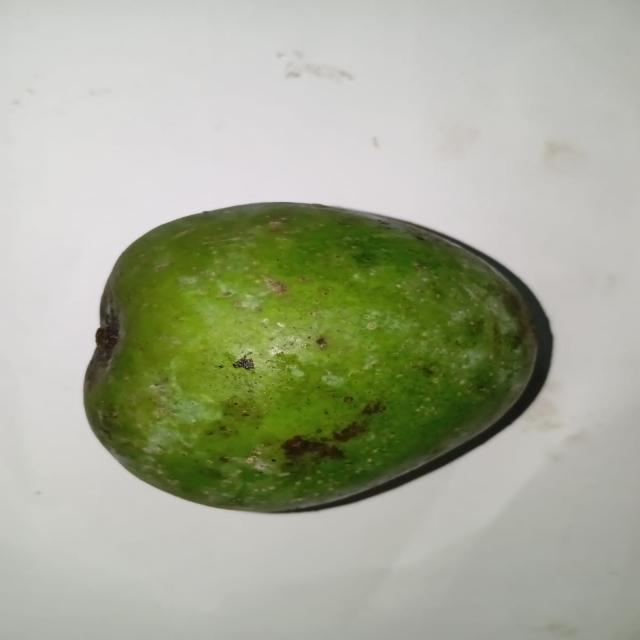rotten_mango: (79, 203, 539, 512)
